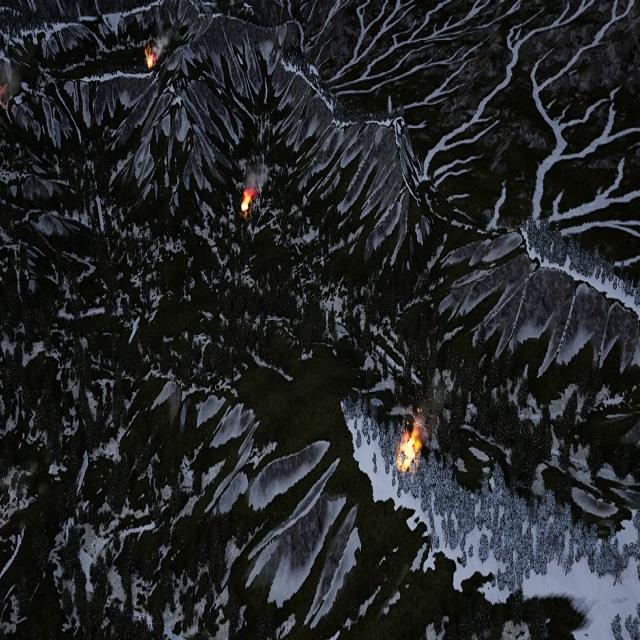fire: (397, 430, 420, 470), (241, 189, 254, 211), (145, 50, 155, 68)
smoke: (244, 163, 265, 196), (154, 29, 173, 60)
